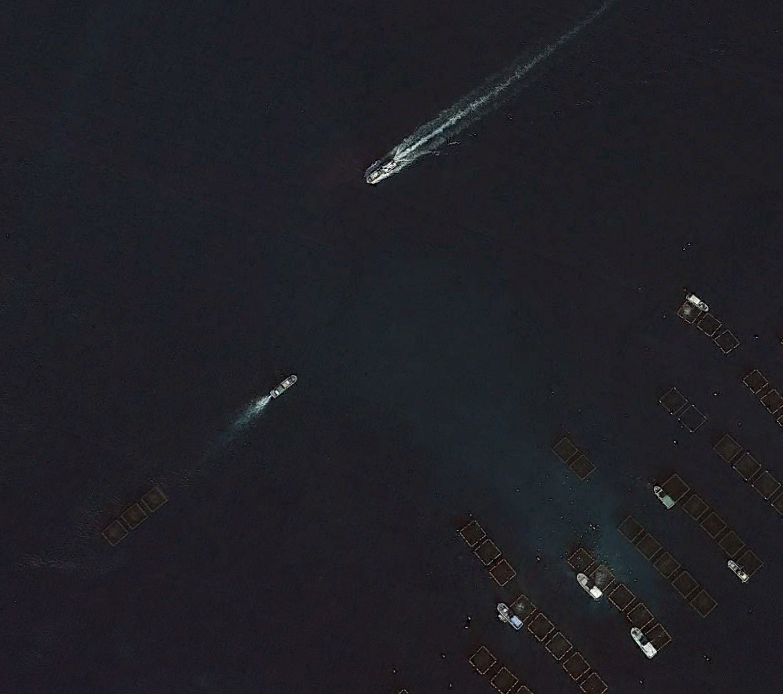ship: (361, 146, 416, 195), (260, 365, 310, 409), (623, 623, 661, 663), (576, 566, 606, 607), (493, 600, 526, 631), (685, 283, 715, 317), (649, 483, 681, 511), (723, 554, 752, 584)
square: (614, 509, 655, 548), (656, 465, 692, 508), (463, 640, 503, 678), (459, 511, 496, 552), (558, 648, 596, 684), (675, 488, 712, 524), (565, 544, 601, 580), (541, 627, 575, 665), (732, 450, 766, 487), (603, 583, 640, 617), (640, 621, 676, 655), (711, 431, 744, 468), (551, 430, 583, 468), (634, 531, 666, 567), (585, 564, 617, 600), (653, 549, 683, 587), (669, 566, 699, 604), (689, 585, 719, 623), (506, 592, 539, 626), (485, 660, 518, 694), (526, 613, 558, 648), (628, 601, 656, 640), (474, 537, 507, 570), (567, 449, 598, 484), (751, 467, 782, 501), (736, 547, 766, 582), (678, 401, 707, 436), (658, 385, 688, 417), (573, 670, 611, 694), (488, 558, 518, 588), (676, 298, 707, 327), (718, 528, 746, 560), (713, 326, 740, 358), (694, 311, 723, 340), (701, 512, 730, 541), (141, 483, 169, 513), (743, 364, 768, 395), (102, 520, 128, 547), (760, 383, 783, 412), (120, 503, 146, 528)
